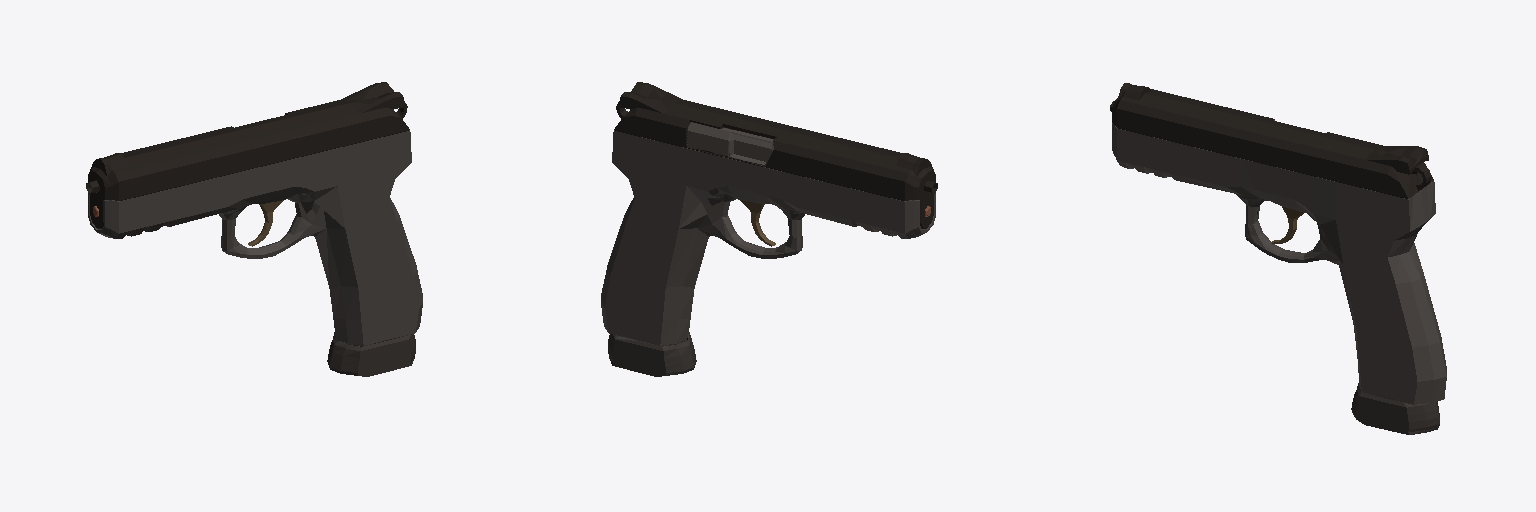
The picture shows the model from 3 angles: view 1: azimuth 30°, elevation 25°; view 2: azimuth 150°, elevation 25°; view 3: azimuth 330°, elevation 25°; orthographic projection.
Parts seen in each view (by area): view 1: Vody, Vody Slider group1; view 2: Vody, Vody Slider group1; view 3: Vody, Vody Slider group1.
Part boxes in pixels (x1,y1,x2,y2): Vody: (88, 130, 422, 376); Vody Slider group1: (86, 82, 409, 228); Vody: (601, 130, 935, 376); Vody Slider group1: (614, 82, 937, 228); Vody: (1112, 123, 1446, 434); Vody Slider group1: (1110, 83, 1433, 198).
Bounding box in the file's own units: 8.62 × 6.69 × 1.17.
1 materials, 1 textured.